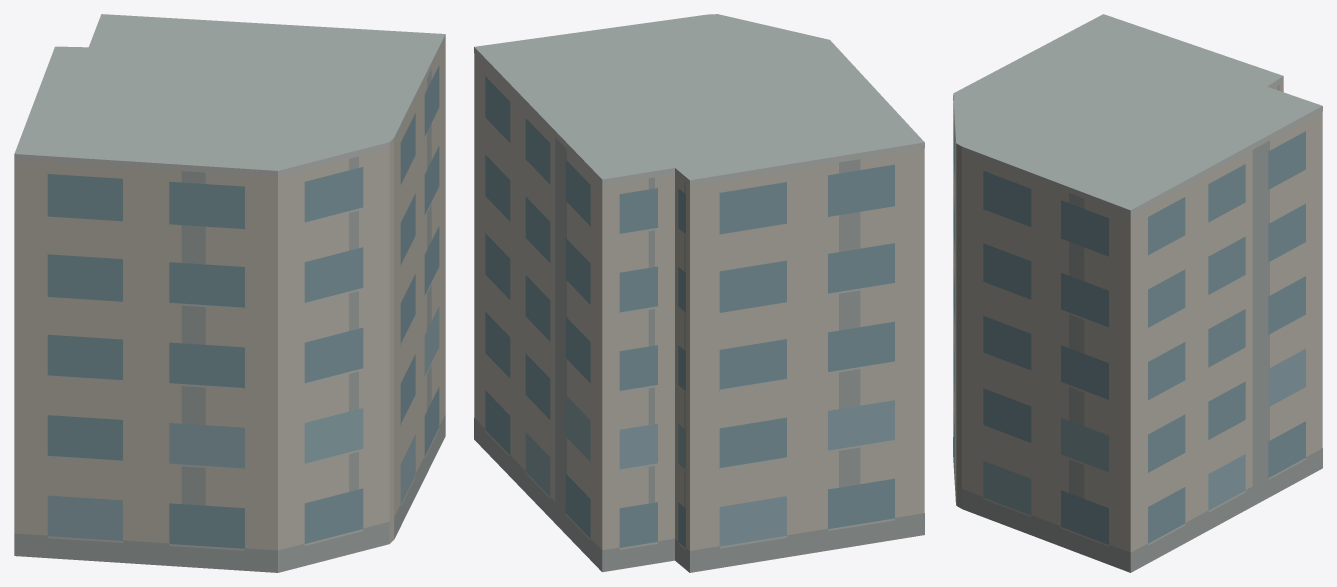
The model's file is survey-upis-32884771.glb.
The picture shows the model from 3 angles, left to right: view 1: azimuth 30°, elevation 25°; view 2: azimuth 150°, elevation 25°; view 3: azimuth 270°, elevation 25°; orthographic projection. The views are drawn at different scales.
Parts seen in each view (by area): view 1: survey-upis-32884771.tmp; view 2: survey-upis-32884771.tmp; view 3: survey-upis-32884771.tmp.
Boxes of the visible parts, box(x1,y1,x2,y2) form: survey-upis-32884771.tmp: box(14, 14, 445, 572); survey-upis-32884771.tmp: box(474, 14, 924, 572); survey-upis-32884771.tmp: box(953, 14, 1322, 572).
Bounding box in the file's own units: 17.73 × 15.25 × 14.1.
